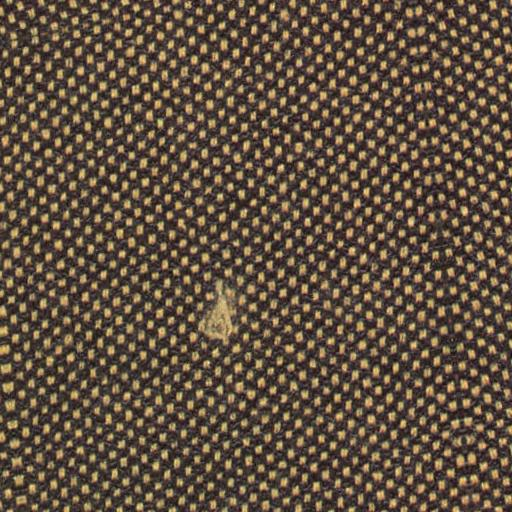knot: (187, 274, 251, 352)
